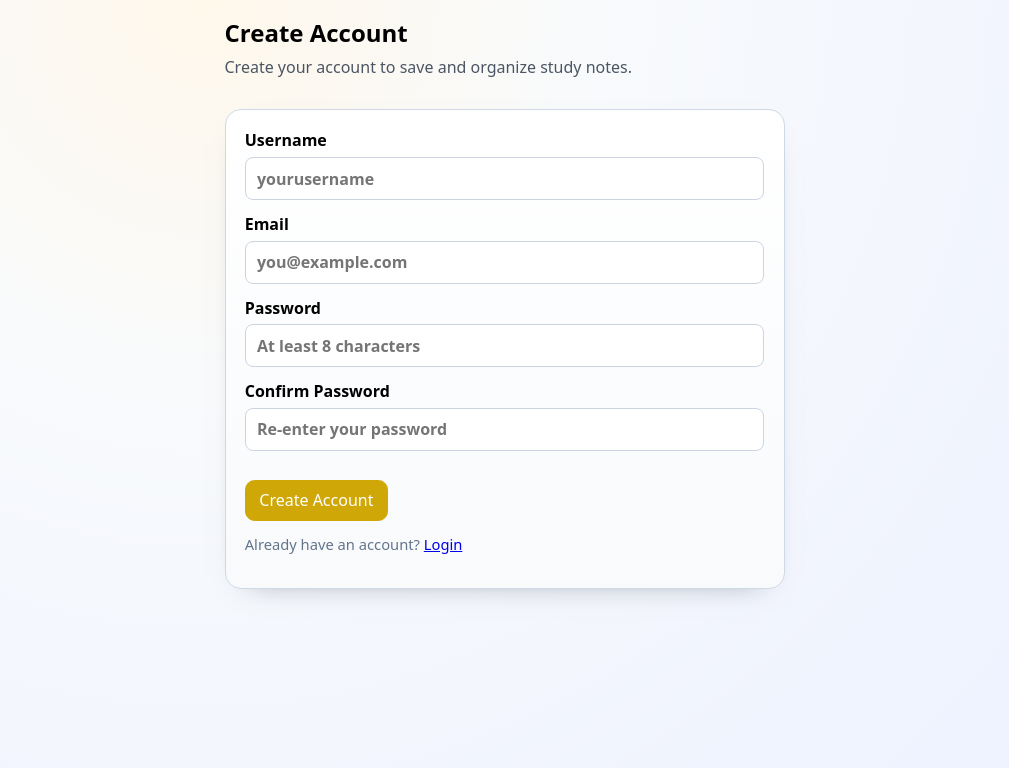
Test case: SignupPage › validates all required fields
This screenshot has width=1024, height=768.
Click the button "Create Account" at [316, 500], box [245,480,388,521]
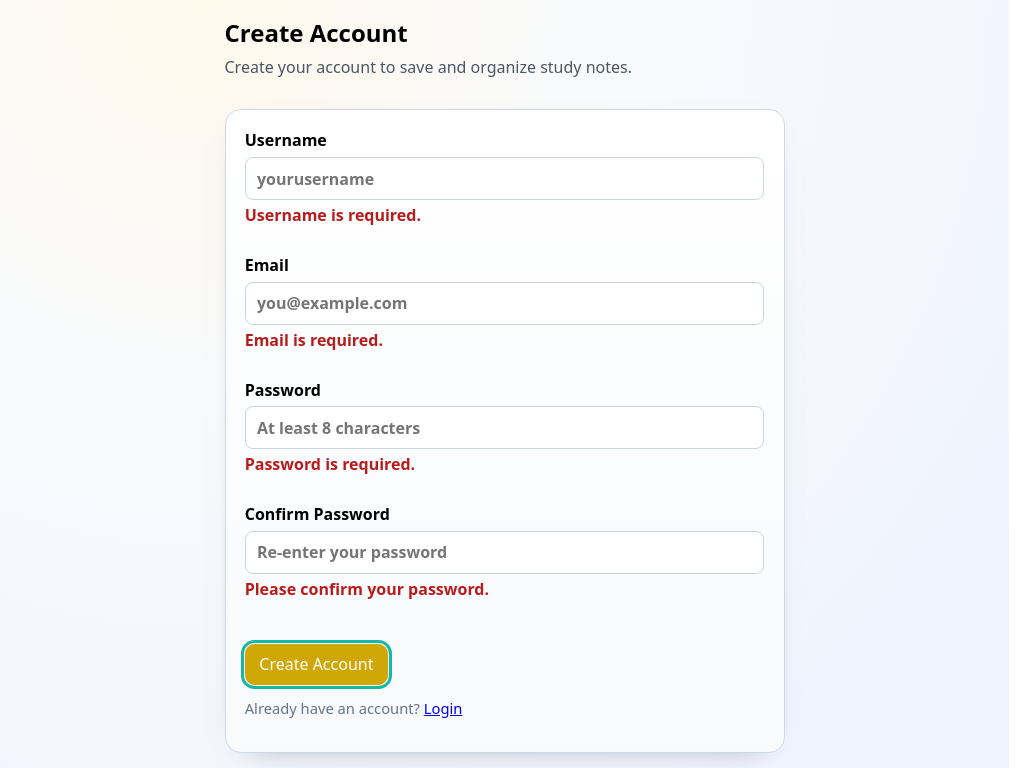
Expected: the text "Username is required." is shown, [245,204,421,226]
Expected: the text "Email is required." is shown, [245,329,383,351]
Expected: the text "Password is required." is shown, [245,453,415,475]
